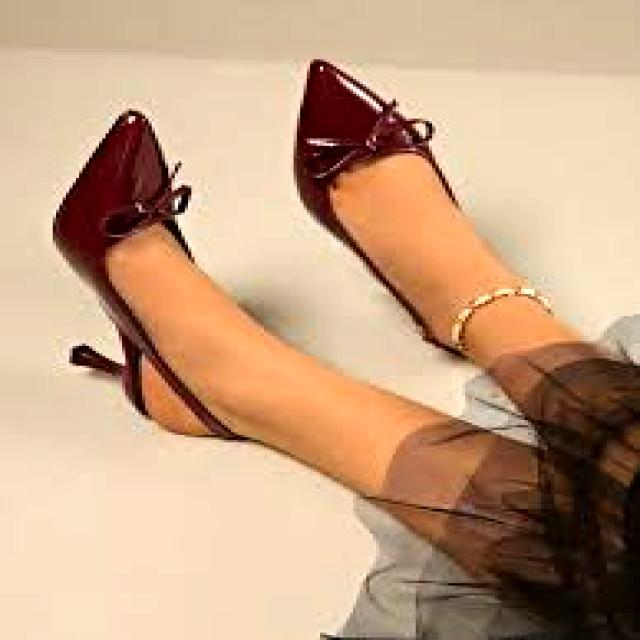foot-wear: (51, 105, 253, 445), (299, 61, 508, 359)
